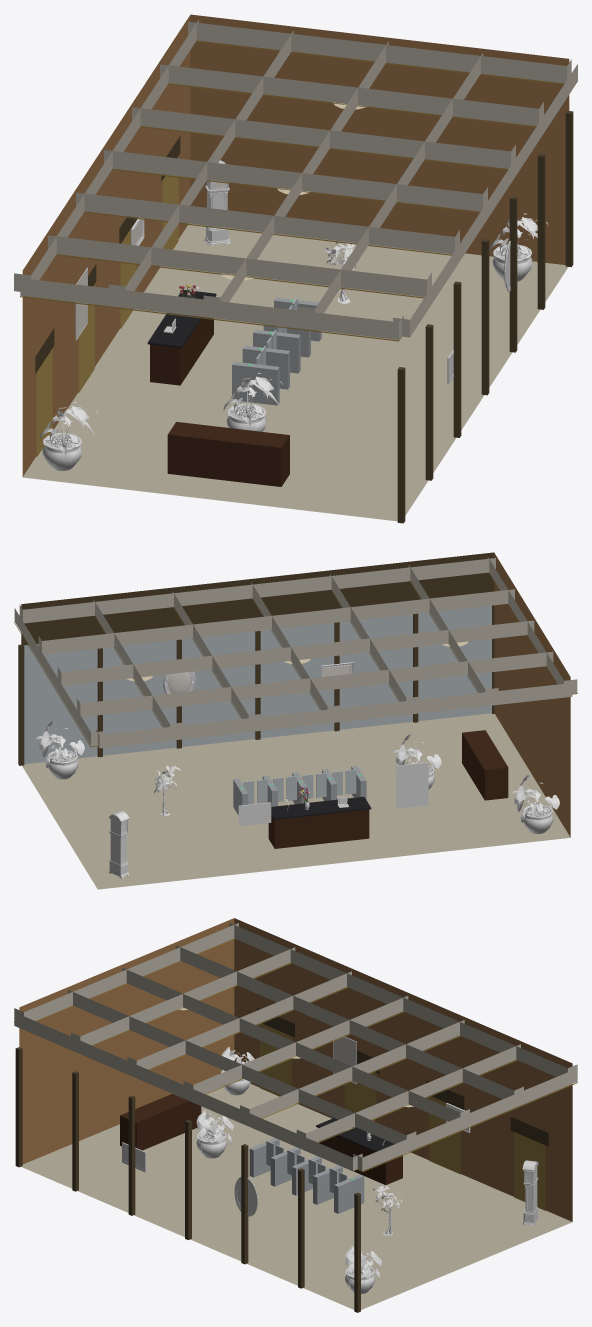
The model's file is phelan_int.glb.
3 renders of one model, top to bottom at view 1: azimuth 30°, elevation 25°; view 2: azimuth 150°, elevation 25°; view 3: azimuth 270°, elevation 25°, orthographic. The views are drawn at different scales.
Visible parts, largest first — view 1: I_x_mosaic, I_x_plaster, I_x_marble_siena, I_x_bronze, I_x_veneer, I_d_metal, I_x_gold, I_x_brass, I_p_potted_plant_02__0, I_p_potted_plant_02__1, I_x_marble_black, I_p_vintage_grandfather_clock_01__0 (+1 smaller); view 2: I_x_mosaic, I_x_plaster, I_glassI, I_x_bronze, I_x_marble_siena, I_x_veneer, I_p_potted_plant_02__1, I_d_metal, I_p_potted_plant_02__0, I_p_hanging_picture_frame_01__2, I_x_marble_black, I_p_vintage_grandfather_clock_01__0 (+3 smaller); view 3: I_x_marble_siena, I_x_mosaic, I_x_plaster, I_x_bronze, I_x_brass, I_x_veneer, I_d_metal, I_x_gold, I_p_potted_plant_02__1, I_p_potted_plant_02__0, I_glassI, I_p_vintage_grandfather_clock_01__0 (+3 smaller).
Boxes of the visible parts, x1,y1,x2,y2 form: I_x_mosaic: [22, 223, 568, 521]; I_x_plaster: [14, 19, 577, 339]; I_x_marble_siena: [22, 14, 569, 476]; I_x_bronze: [35, 111, 573, 523]; I_x_veneer: [150, 317, 289, 486]; I_d_metal: [232, 297, 321, 405]; I_x_gold: [20, 41, 564, 341]; I_x_brass: [36, 156, 178, 457]; I_p_potted_plant_02__0: [42, 244, 532, 470]; I_p_potted_plant_02__1: [39, 213, 548, 455]; I_x_marble_black: [147, 289, 216, 348]; I_p_vintage_grandfather_clock_01__0: [204, 160, 230, 245]; I_x_mosaic: [22, 713, 570, 889]; I_x_plaster: [14, 556, 577, 748]; I_glassI: [24, 605, 491, 804]; I_x_bronze: [18, 552, 494, 765]; I_x_marble_siena: [494, 553, 570, 836]; I_x_veneer: [268, 730, 508, 848]; I_p_potted_plant_02__1: [36, 720, 559, 822]; I_d_metal: [233, 766, 366, 814]; I_p_potted_plant_02__0: [47, 750, 553, 833]; I_p_hanging_picture_frame_01__2: [396, 762, 428, 808]; I_x_marble_black: [271, 796, 371, 819]; I_p_vintage_grandfather_clock_01__0: [108, 811, 129, 878]; I_x_marble_siena: [19, 918, 572, 1221]; I_x_mosaic: [21, 1083, 572, 1309]; I_x_plaster: [14, 923, 577, 1171]; I_x_bronze: [15, 1008, 548, 1312]; I_x_brass: [260, 1023, 545, 1210]; I_x_veneer: [120, 1094, 402, 1184]; I_d_metal: [249, 1138, 364, 1213]; I_x_gold: [14, 938, 577, 1172]; I_p_potted_plant_02__1: [196, 1047, 381, 1280]; I_p_potted_plant_02__0: [196, 1070, 375, 1293]; I_glassI: [266, 1141, 347, 1193]; I_p_vintage_grandfather_clock_01__0: [522, 1160, 538, 1226].
Bounding box in the file's own units: 18.77 × 5.8 × 18.69.
